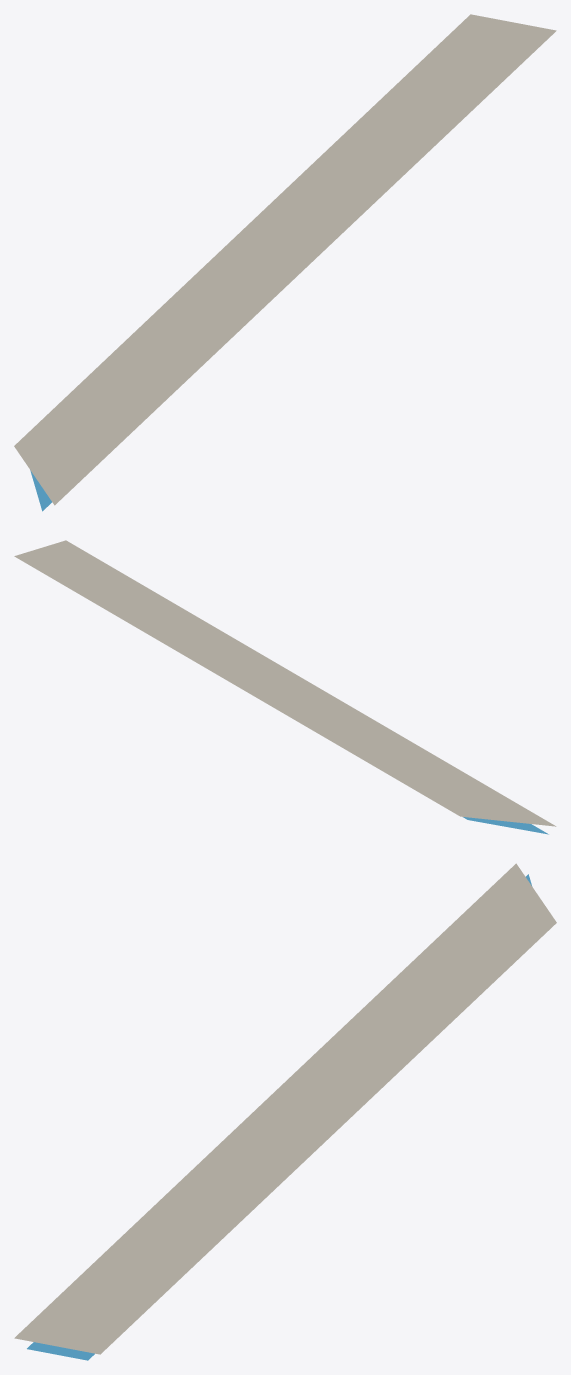
The picture shows the model from 3 angles, top to bottom: view 1: azimuth 90°, elevation 25°; view 2: azimuth 150°, elevation 25°; view 3: azimuth 270°, elevation 25°; orthographic projection. The views are drawn at different scales.
Parts seen in each view (by area): view 1: estructura_terreno; view 2: estructura_terreno, estructura_agua; view 3: estructura_terreno.
Part boxes in pixels (x1,y1,x2,y2): estructura_terreno: (14, 14, 556, 505); estructura_terreno: (14, 540, 556, 826); estructura_agua: (463, 817, 548, 834); estructura_terreno: (14, 863, 556, 1354).
Bounding box in the file's own units: 51.62 × 0.41 × 24.11.
